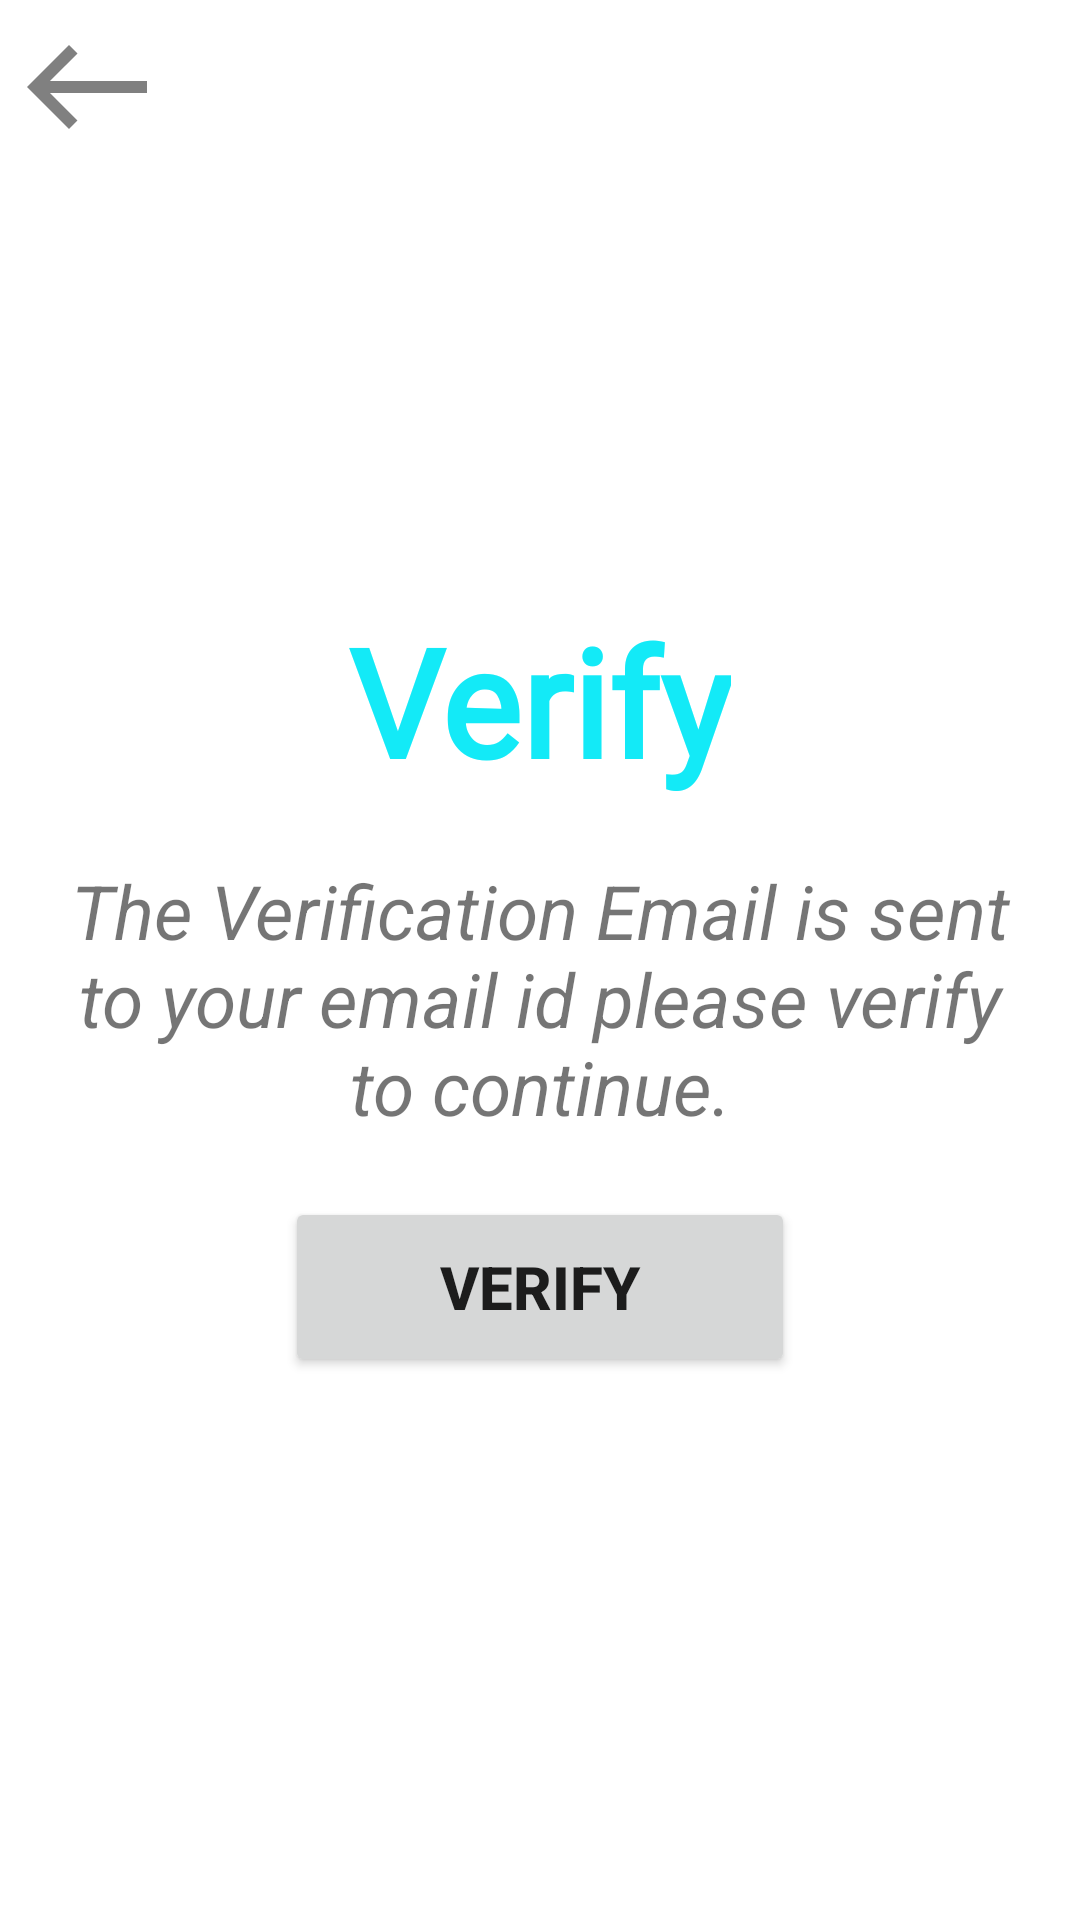

Icon click points for this 1080px×1920px phone screenshot, format [x,y]:
back: [87,87]
